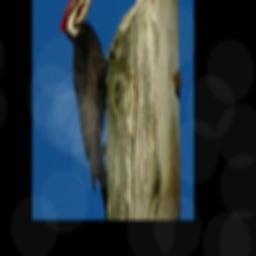Woodpecker: (57, 0, 117, 216)
